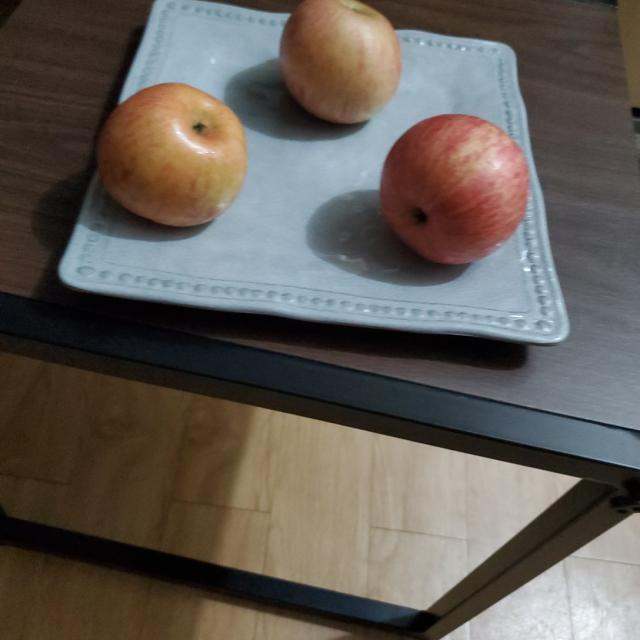apple: (93, 85, 250, 238), (376, 115, 530, 266), (278, 1, 403, 125)
